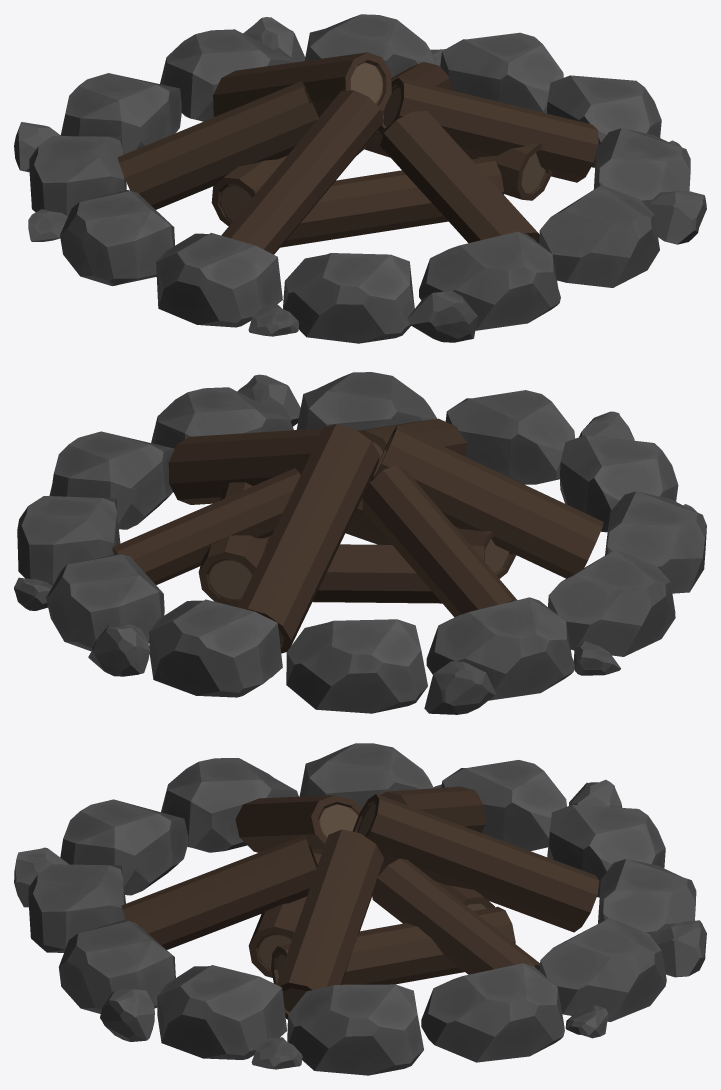
The model's file is Campfire.fbx.
3 renders of one model, top to bottom at view 1: azimuth 30°, elevation 25°; view 2: azimuth 150°, elevation 25°; view 3: azimuth 270°, elevation 25°, orthographic. The views are drawn at different scales.
Parts seen in each view (by area): view 1: Icosphere.047; view 2: Icosphere.047; view 3: Icosphere.047.
Boxes of the visible parts, bbox=[...] form: Icosphere.047: bbox=[14, 14, 706, 343]; Icosphere.047: bbox=[14, 372, 706, 714]; Icosphere.047: bbox=[14, 743, 706, 1075].
Bounding box in the file's own units: 98.96 × 23.67 × 102.
